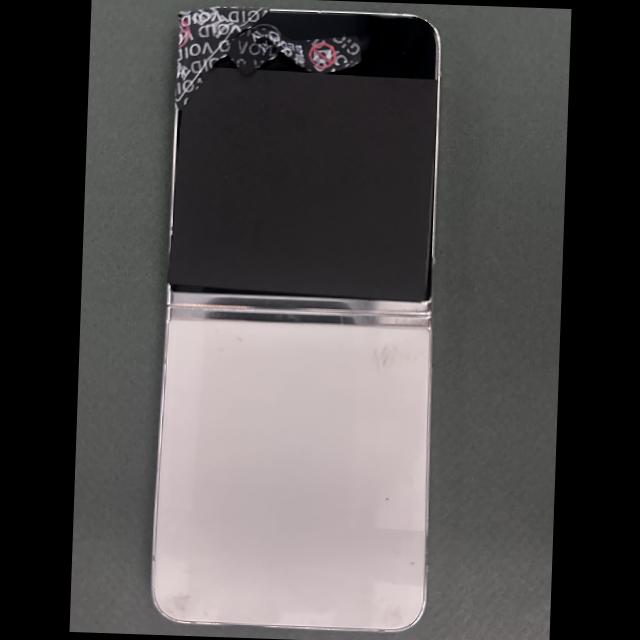lens: (254, 24, 279, 33)
phone: (150, 7, 441, 632)
sticker: (173, 6, 272, 111), (227, 28, 361, 75)
